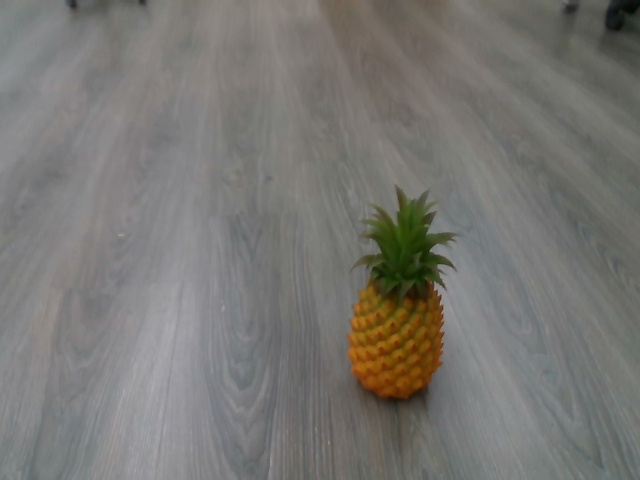pineapple: (346, 181, 458, 403)
